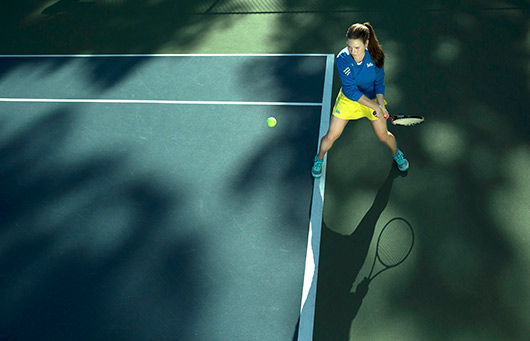tennis_ball: (264, 115, 277, 128)
